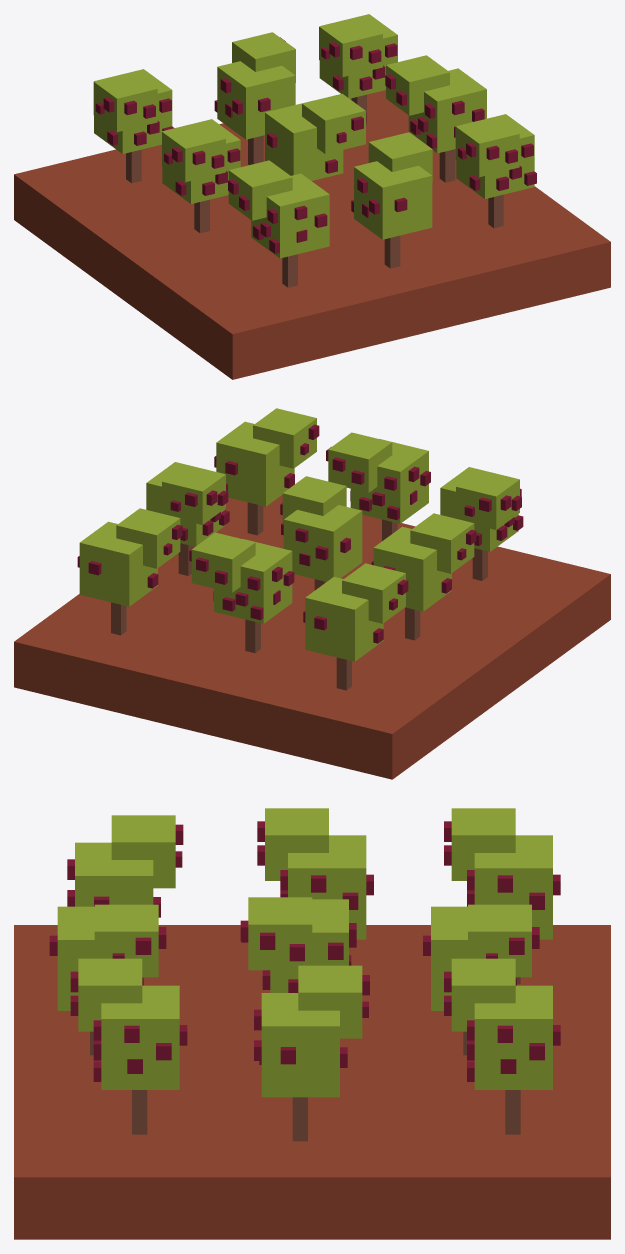
Rendered from SM_Crop_B.fbx.
3 views of the same model, one above another, from view 1: azimuth 30°, elevation 25°; view 2: azimuth 150°, elevation 25°; view 3: azimuth 270°, elevation 25° (orthographic). The views are drawn at different scales.
Visible parts, largest first — view 1: Crops_A.001; view 2: Crops_A.001; view 3: Crops_A.001.
Part boxes in pixels (bbox=[...]): Crops_A.001: bbox=[14, 14, 610, 379]; Crops_A.001: bbox=[14, 408, 610, 779]; Crops_A.001: bbox=[14, 808, 610, 1239].
Bounding box in the file's own units: 400 × 154 × 400.
